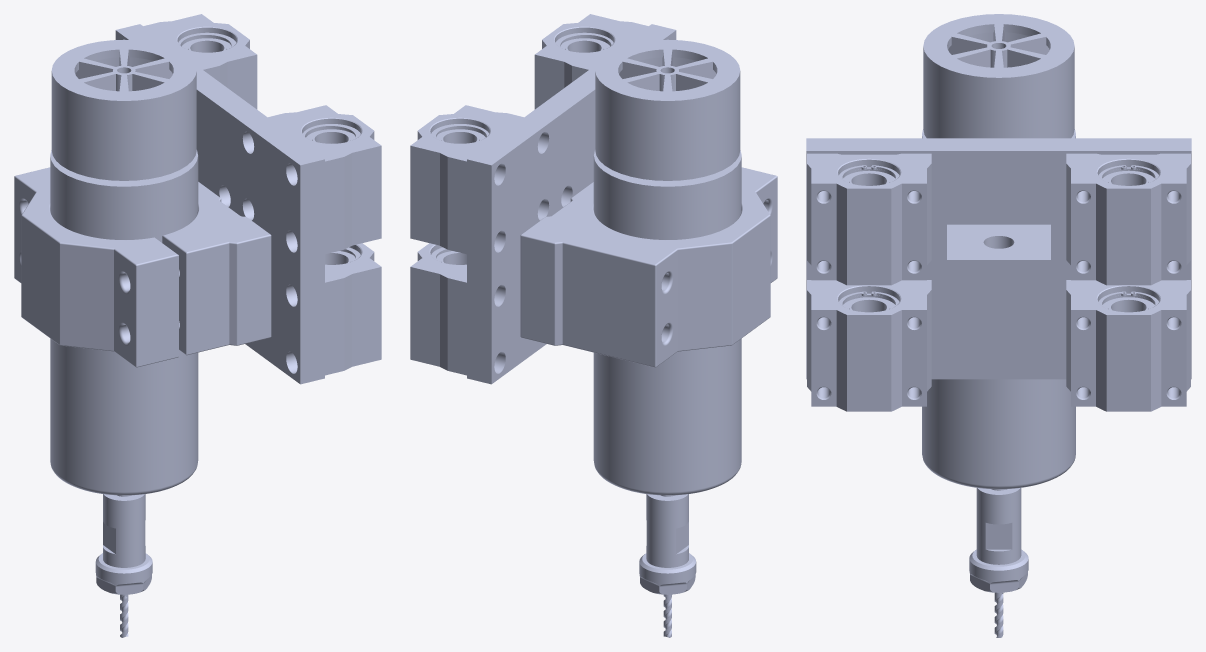
3 views of the same model, side by side, from view 1: azimuth 30°, elevation 25°; view 2: azimuth 150°, elevation 25°; view 3: azimuth 270°, elevation 25° (orthographic). The views are drawn at different scales.
Parts seen in each view (by area): view 1: NAUO6, NAUO5, NAUO2, NAUO9, NAUO8, NAUO4, NAUO10; view 2: NAUO6, NAUO5, NAUO2, NAUO10, NAUO7, NAUO4, NAUO9; view 3: NAUO6, NAUO2, NAUO9, NAUO10, NAUO7, NAUO8, NAUO11, NAUO4.
Part boxes in pixels (left/top/right/bottom): NAUO6: left=50, top=39, right=198, bottom=496; NAUO5: left=14, top=167, right=271, bottom=367; NAUO2: left=115, top=24, right=324, bottom=384; NAUO9: left=268, top=105, right=381, bottom=254; NAUO8: left=325, top=243, right=381, bottom=375; NAUO4: left=95, top=494, right=152, bottom=637; NAUO10: left=143, top=14, right=257, bottom=109; NAUO6: left=593, top=39, right=741, bottom=496; NAUO5: left=520, top=167, right=777, bottom=367; NAUO2: left=467, top=24, right=676, bottom=384; NAUO10: left=410, top=105, right=523, bottom=254; NAUO7: left=410, top=243, right=466, bottom=375; NAUO4: left=639, top=494, right=696, bottom=637; NAUO9: left=534, top=14, right=648, bottom=109; NAUO6: left=922, top=14, right=1075, bottom=490; NAUO2: left=806, top=138, right=1191, bottom=379; NAUO9: left=807, top=153, right=931, bottom=285; NAUO10: left=1066, top=153, right=1190, bottom=285; NAUO7: left=1066, top=280, right=1190, bottom=411; NAUO8: left=807, top=280, right=931, bottom=411; NAUO11: left=947, top=224, right=1050, bottom=340; NAUO4: left=969, top=488, right=1028, bottom=637.
Bounding box in the file's own units: 0.106 × 0.2195 × 0.13.
